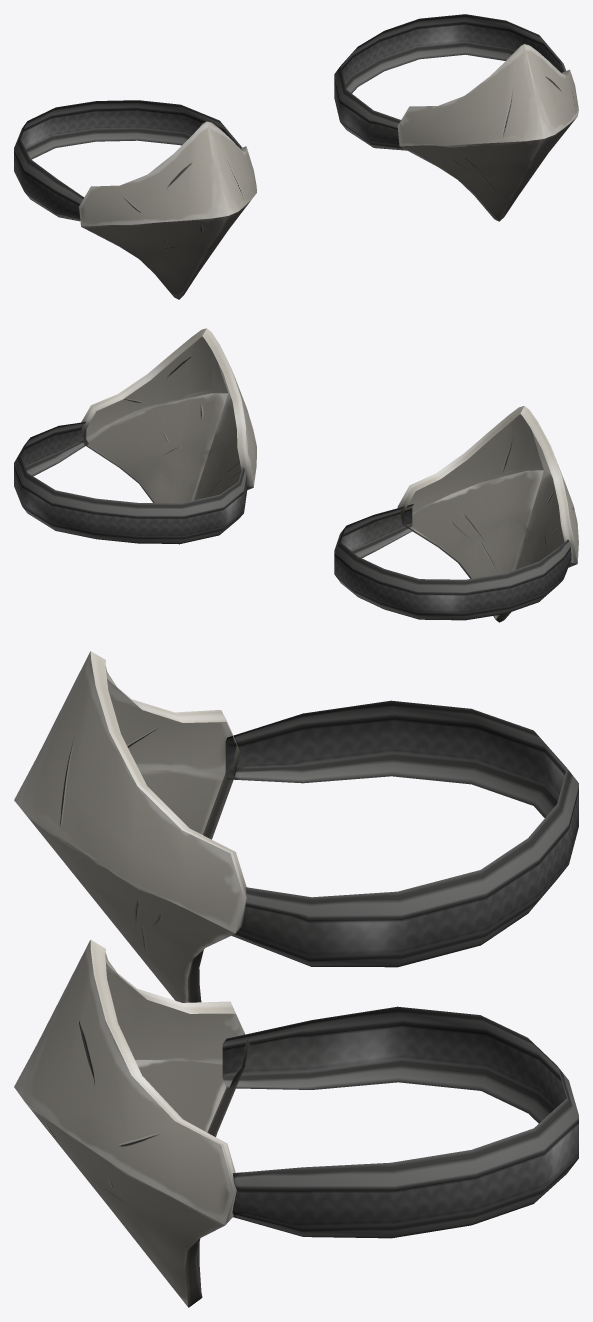
The model's file is armorknees.glb.
3 renders of one model, top to bottom at view 1: azimuth 30°, elevation 25°; view 2: azimuth 150°, elevation 25°; view 3: azimuth 270°, elevation 25°, orthographic. The views are drawn at different scales.
Parts seen in each view (by area): view 1: armorknees; view 2: armorknees; view 3: armorknees.
Boxes of the visible parts, box(x1,y1,x2,y2) form: armorknees: box(14, 14, 578, 299); armorknees: box(14, 328, 578, 622); armorknees: box(14, 651, 578, 1307).
Bounding box in the file's own units: 0.443 × 0.1607 × 0.2241.
Materials: 1 (1 with a texture image).
